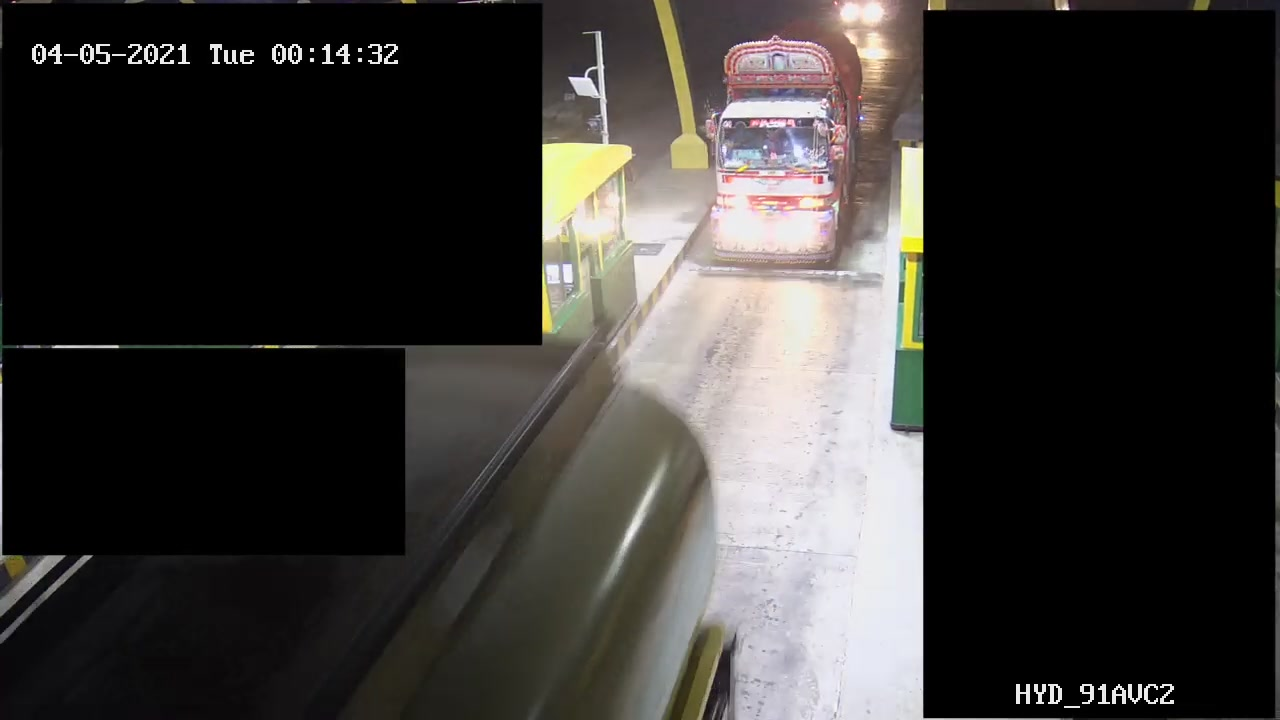F5: (698, 19, 877, 267)
